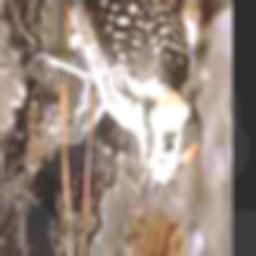Woodpecker: (36, 0, 201, 231)
